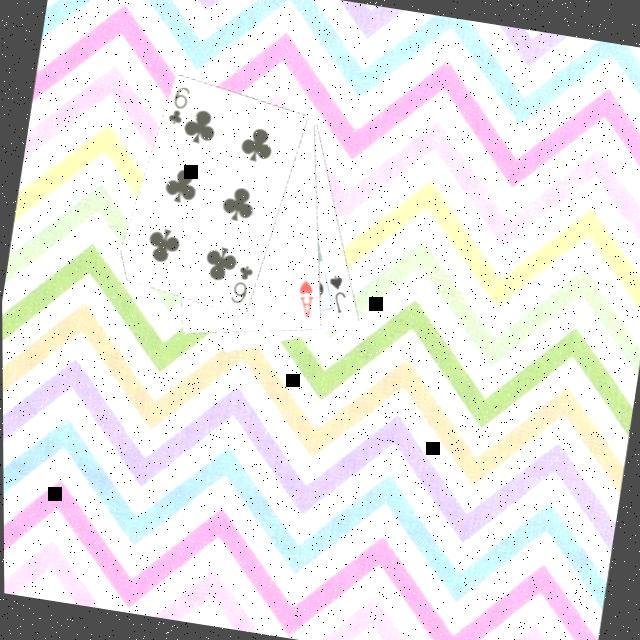6C: (226, 262, 258, 310), (164, 83, 195, 131)
AH: (292, 276, 321, 324)
JS: (321, 271, 353, 318)
